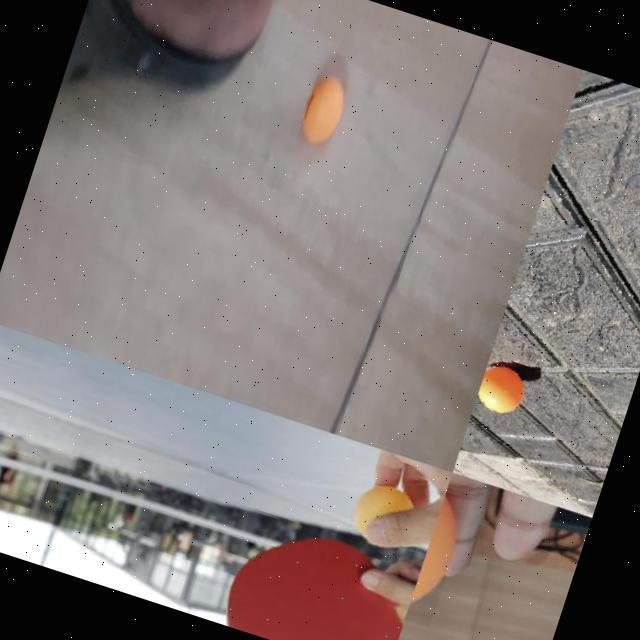ping-pong-ball: (344, 477, 418, 551), (295, 73, 349, 148), (474, 359, 528, 418)
